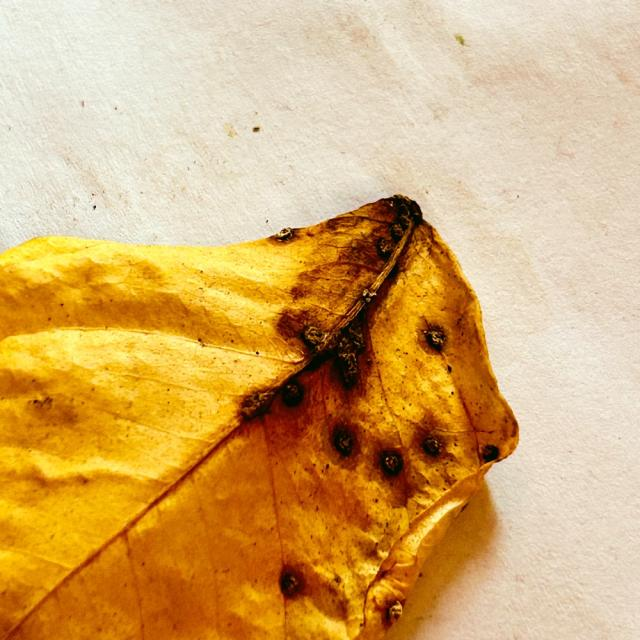DryLeaf_Lemon: (0, 195, 517, 639)
